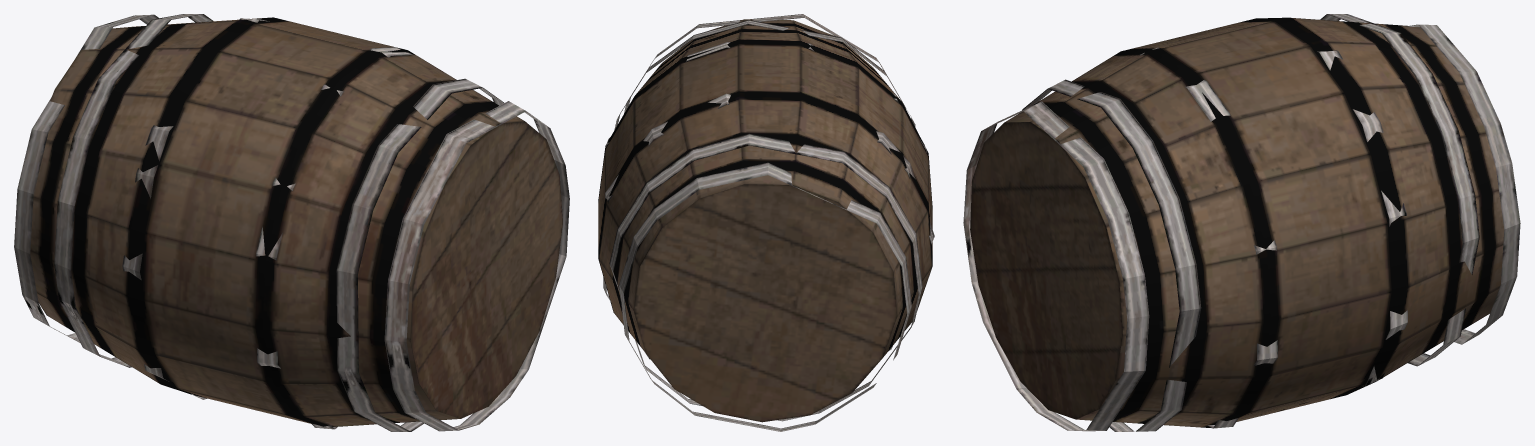
File: barrel4.fbx
The picture shows the model from 3 angles, left to right: view 1: azimuth 30°, elevation 25°; view 2: azimuth 150°, elevation 25°; view 3: azimuth 270°, elevation 25°; orthographic projection. The views are drawn at different scales.
Parts seen in each view (by area): view 1: barrel4; view 2: barrel4; view 3: barrel4.
Part boxes in pixels (x1,y1,x2,y2): barrel4: [14, 14, 569, 431]; barrel4: [598, 14, 934, 431]; barrel4: [963, 14, 1520, 431].
Bounding box in the file's own units: 3.02 × 2.29 × 3.29.
